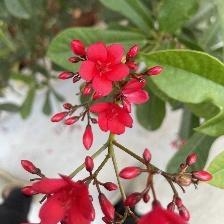jatropha: (81, 42, 131, 94)
